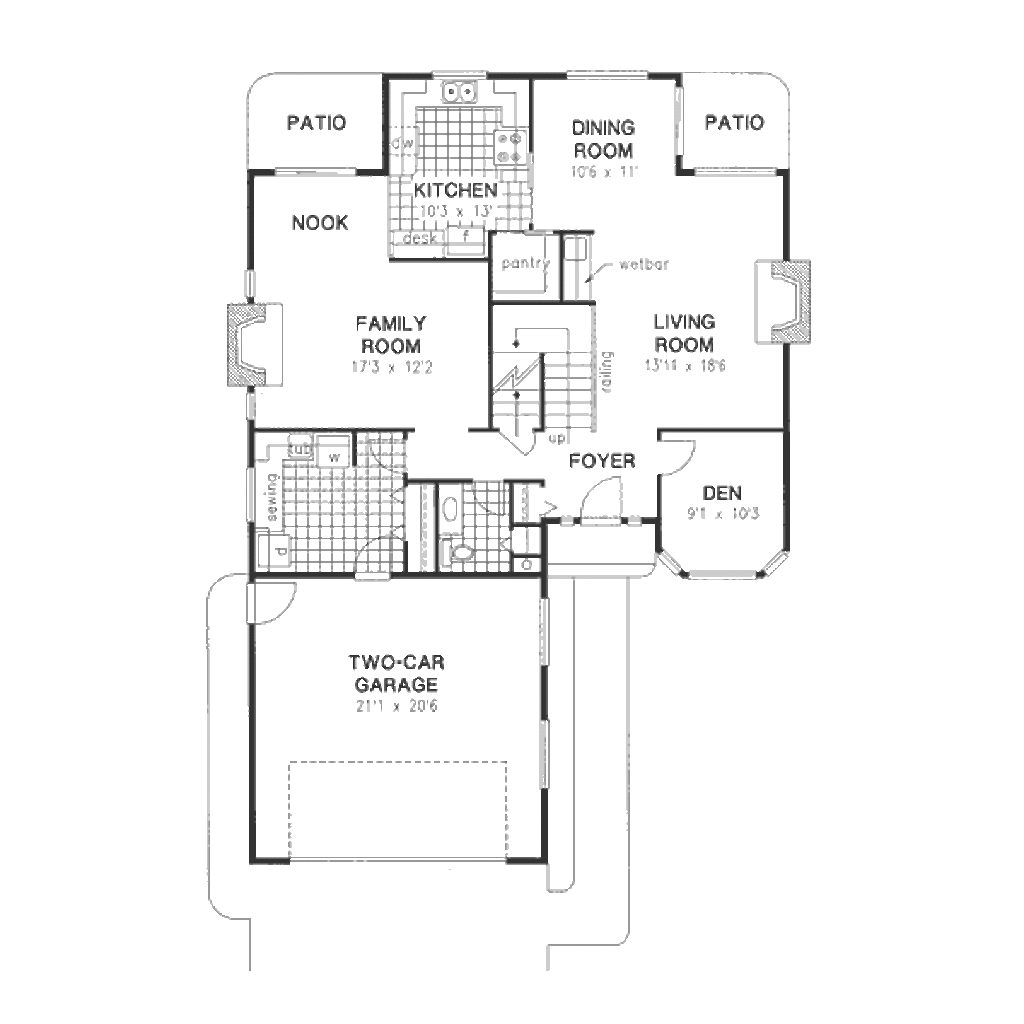door: (572, 468, 636, 534), (645, 430, 709, 484), (358, 427, 421, 481), (237, 578, 296, 632), (350, 534, 398, 592), (496, 422, 544, 459)
large_sink: (428, 530, 490, 575)
small_sink: (437, 478, 475, 530)
stairs: (485, 294, 602, 426)
twin_sink: (421, 67, 507, 111)
window: (658, 551, 788, 581), (271, 157, 367, 183), (529, 587, 559, 670), (669, 78, 698, 159), (566, 62, 659, 87), (240, 459, 271, 530), (691, 157, 780, 180), (537, 710, 556, 792)
